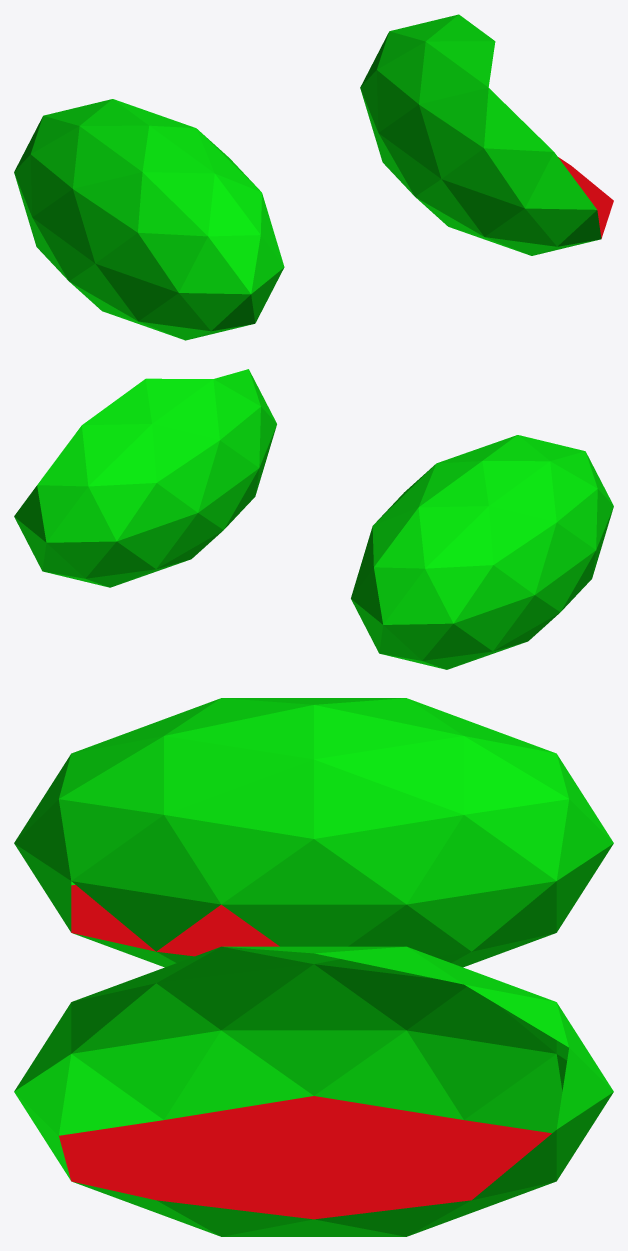
The model's file is nuez.fbx.
3 renders of one model, top to bottom at view 1: azimuth 30°, elevation 25°; view 2: azimuth 150°, elevation 25°; view 3: azimuth 270°, elevation 25°, orthographic. The views are drawn at different scales.
Visible parts, largest first — view 1: Icosphere, Icosphere.001; view 2: Icosphere, Icosphere.001; view 3: Icosphere.001, Icosphere.
Part boxes in pixels (bbox=[...]): Icosphere: bbox=[14, 99, 284, 340]; Icosphere.001: bbox=[360, 14, 613, 255]; Icosphere: bbox=[351, 435, 613, 669]; Icosphere.001: bbox=[14, 369, 276, 587]; Icosphere.001: bbox=[14, 946, 613, 1236]; Icosphere: bbox=[14, 698, 613, 967].
Bounding box in the file's own units: 393 × 200 × 565.
